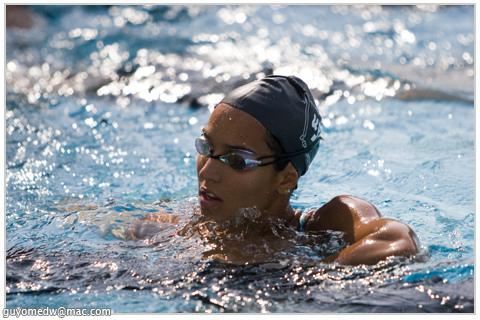human: (189, 72, 425, 273)
